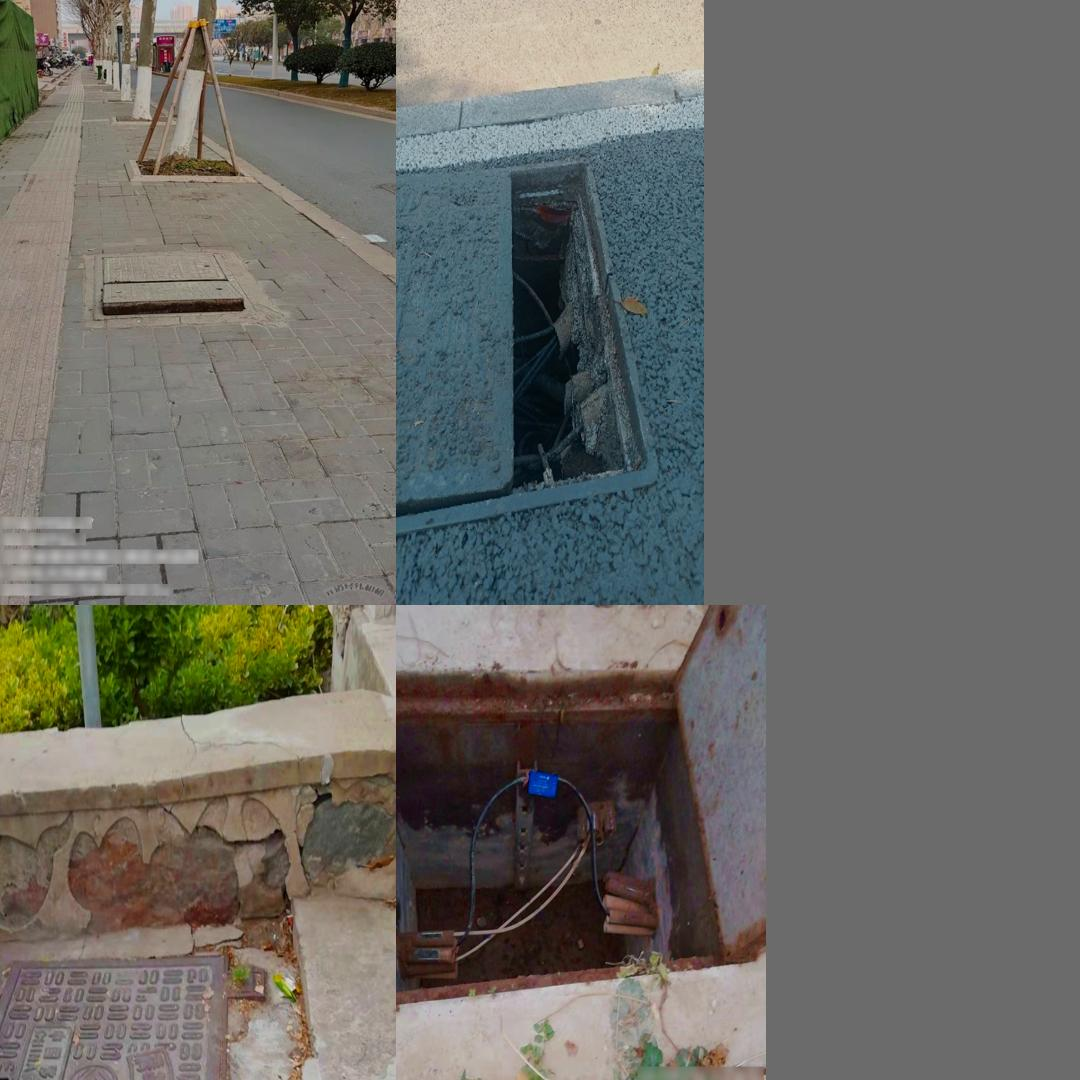uncovered: (396, 610, 762, 1006), (397, 156, 656, 535), (0, 952, 270, 1080), (95, 248, 256, 321)
